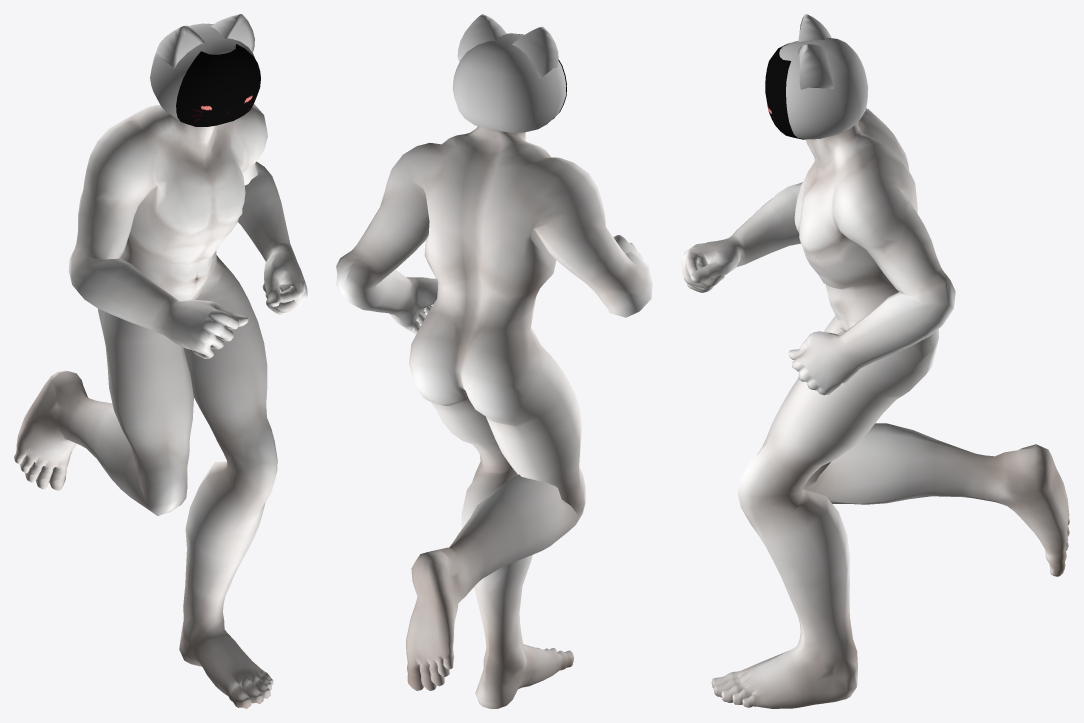
3 renders of one model, left to right at view 1: azimuth 30°, elevation 25°; view 2: azimuth 150°, elevation 25°; view 3: azimuth 270°, elevation 25°, orthographic. The views are drawn at different scales.
Parts seen in each view (by area): view 1: Muscle_Body, ______?001, Cat_Head; view 2: Muscle_Body, Cat_Head; view 3: Muscle_Body, Cat_Head, ______?001.
Boxes of the visible parts, x1,y1,x2,y2 form: Muscle_Body: (14,104,307,708); ______?001: (176,44,260,126); Cat_Head: (150,14,255,120); Muscle_Body: (336,126,652,708); Cat_Head: (452,14,566,132); Muscle_Body: (681,108,1069,708); Cat_Head: (779,14,868,139); ______?001: (765,43,804,139).
Size of the model in its own units: 10.67 by 27.29 by 14.41.
